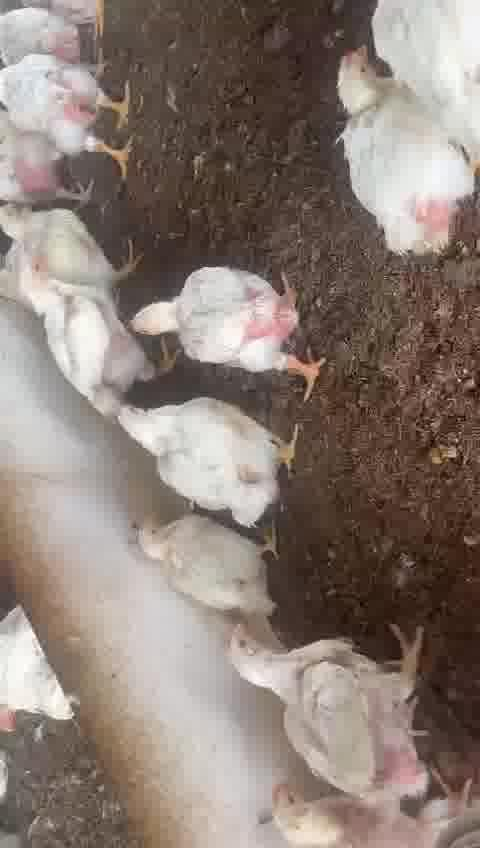AbNormal: (122, 498, 308, 626), (251, 764, 375, 848)
Normal: (228, 625, 429, 798), (319, 45, 467, 256), (112, 401, 314, 515), (17, 253, 153, 412), (133, 272, 328, 379), (0, 55, 145, 167), (0, 184, 137, 289), (0, 123, 94, 209)
